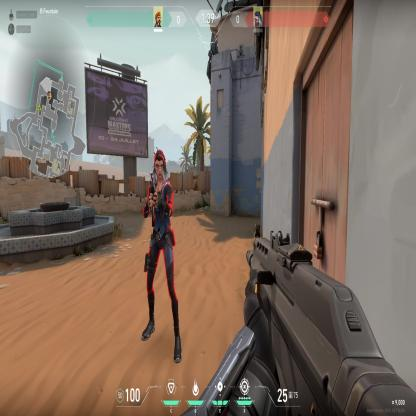enemy: (140, 148, 184, 367)
